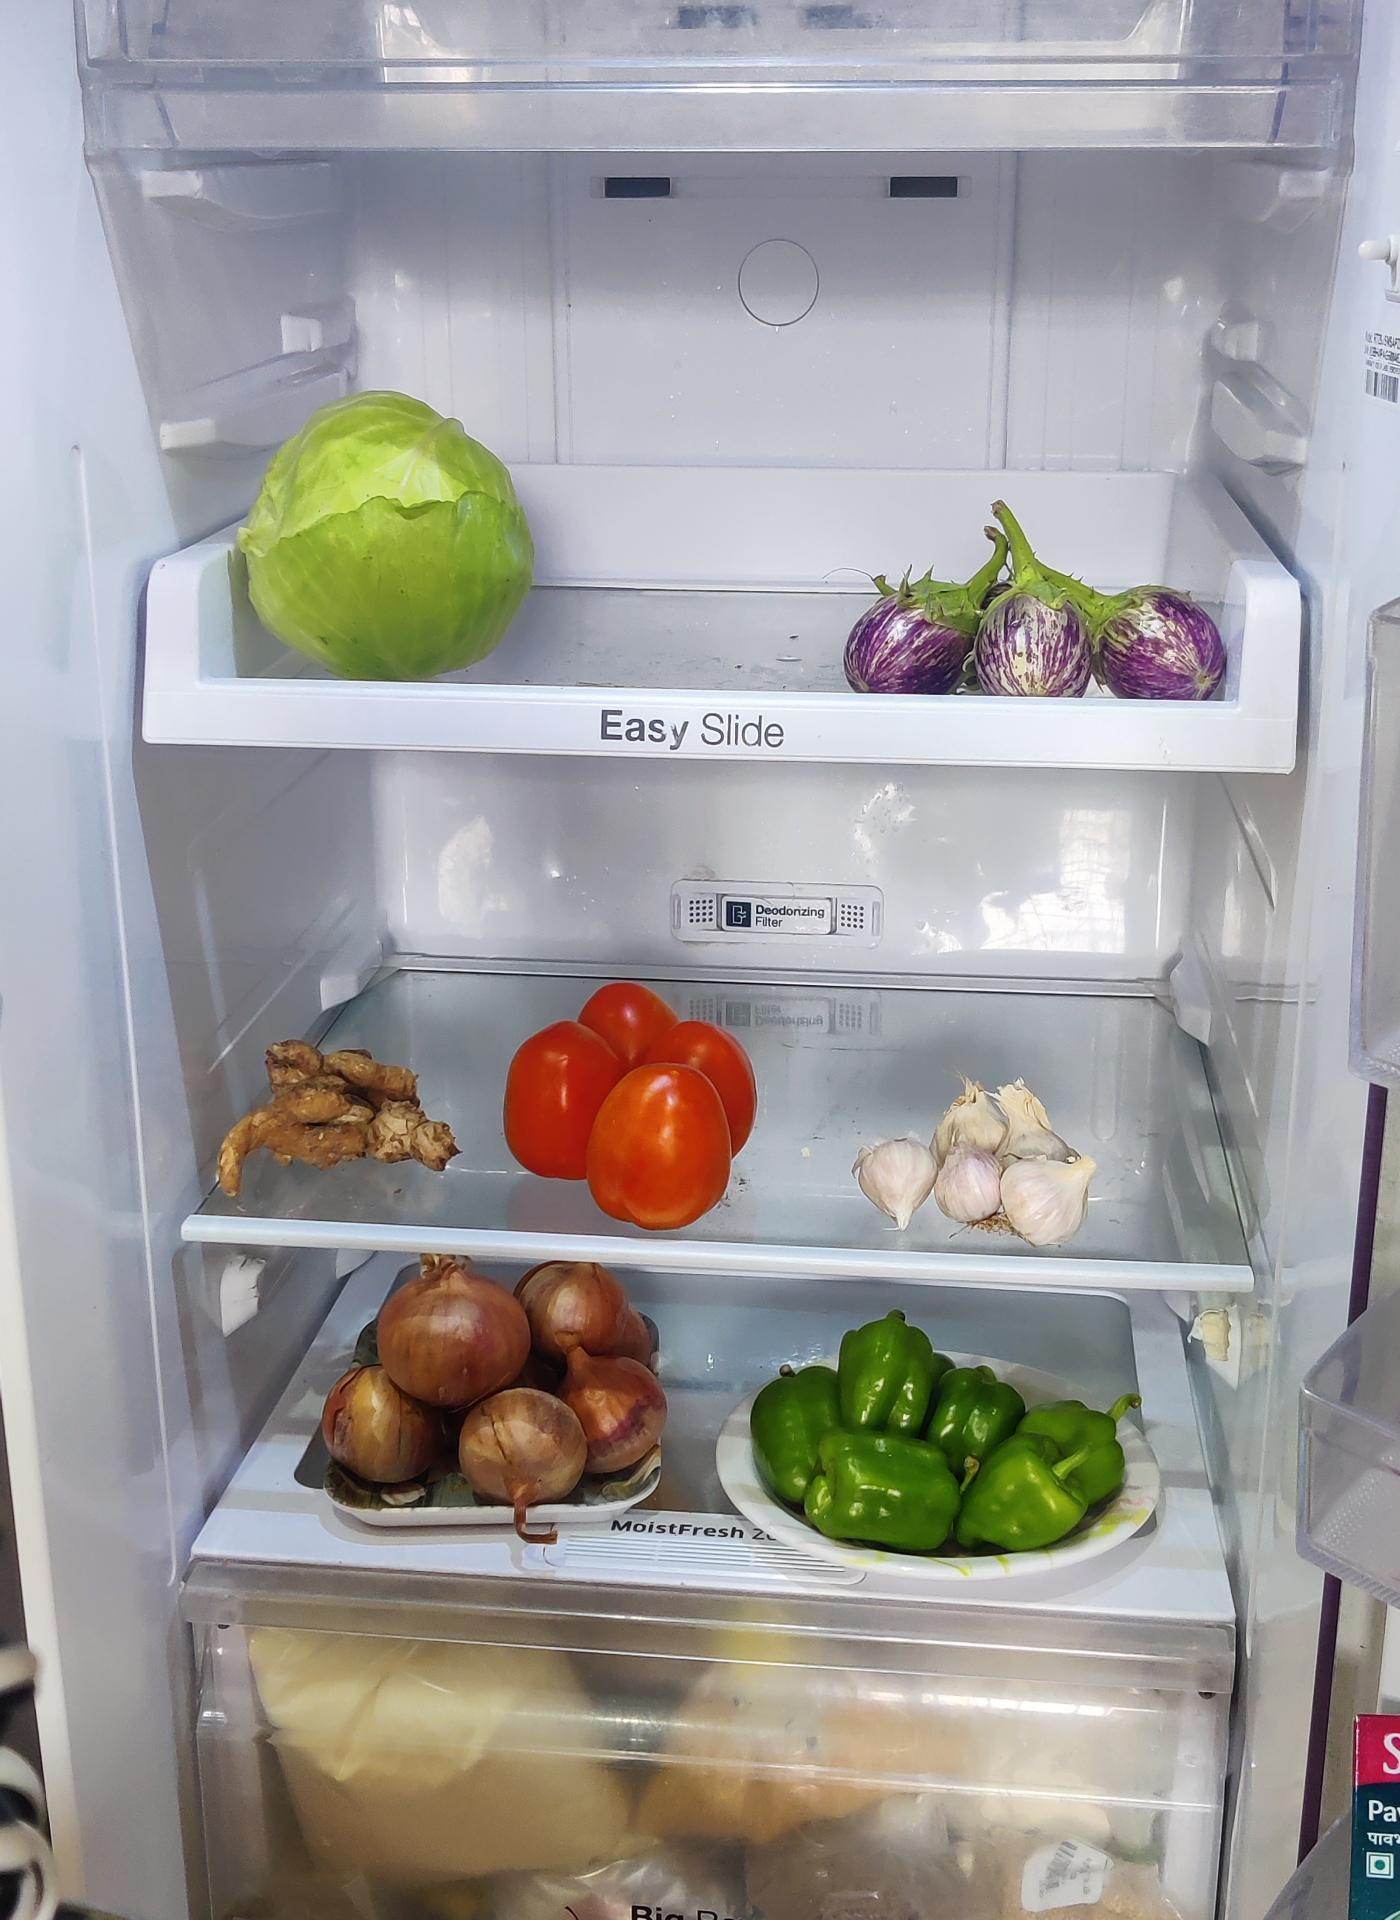cabbage: (240, 392, 541, 678)
capsicum: (751, 1316, 1141, 1556)
garlic: (856, 1079, 1094, 1251)
ginger: (206, 1039, 464, 1181)
onion: (321, 1252, 671, 1501)
tomato: (504, 970, 760, 1216)
